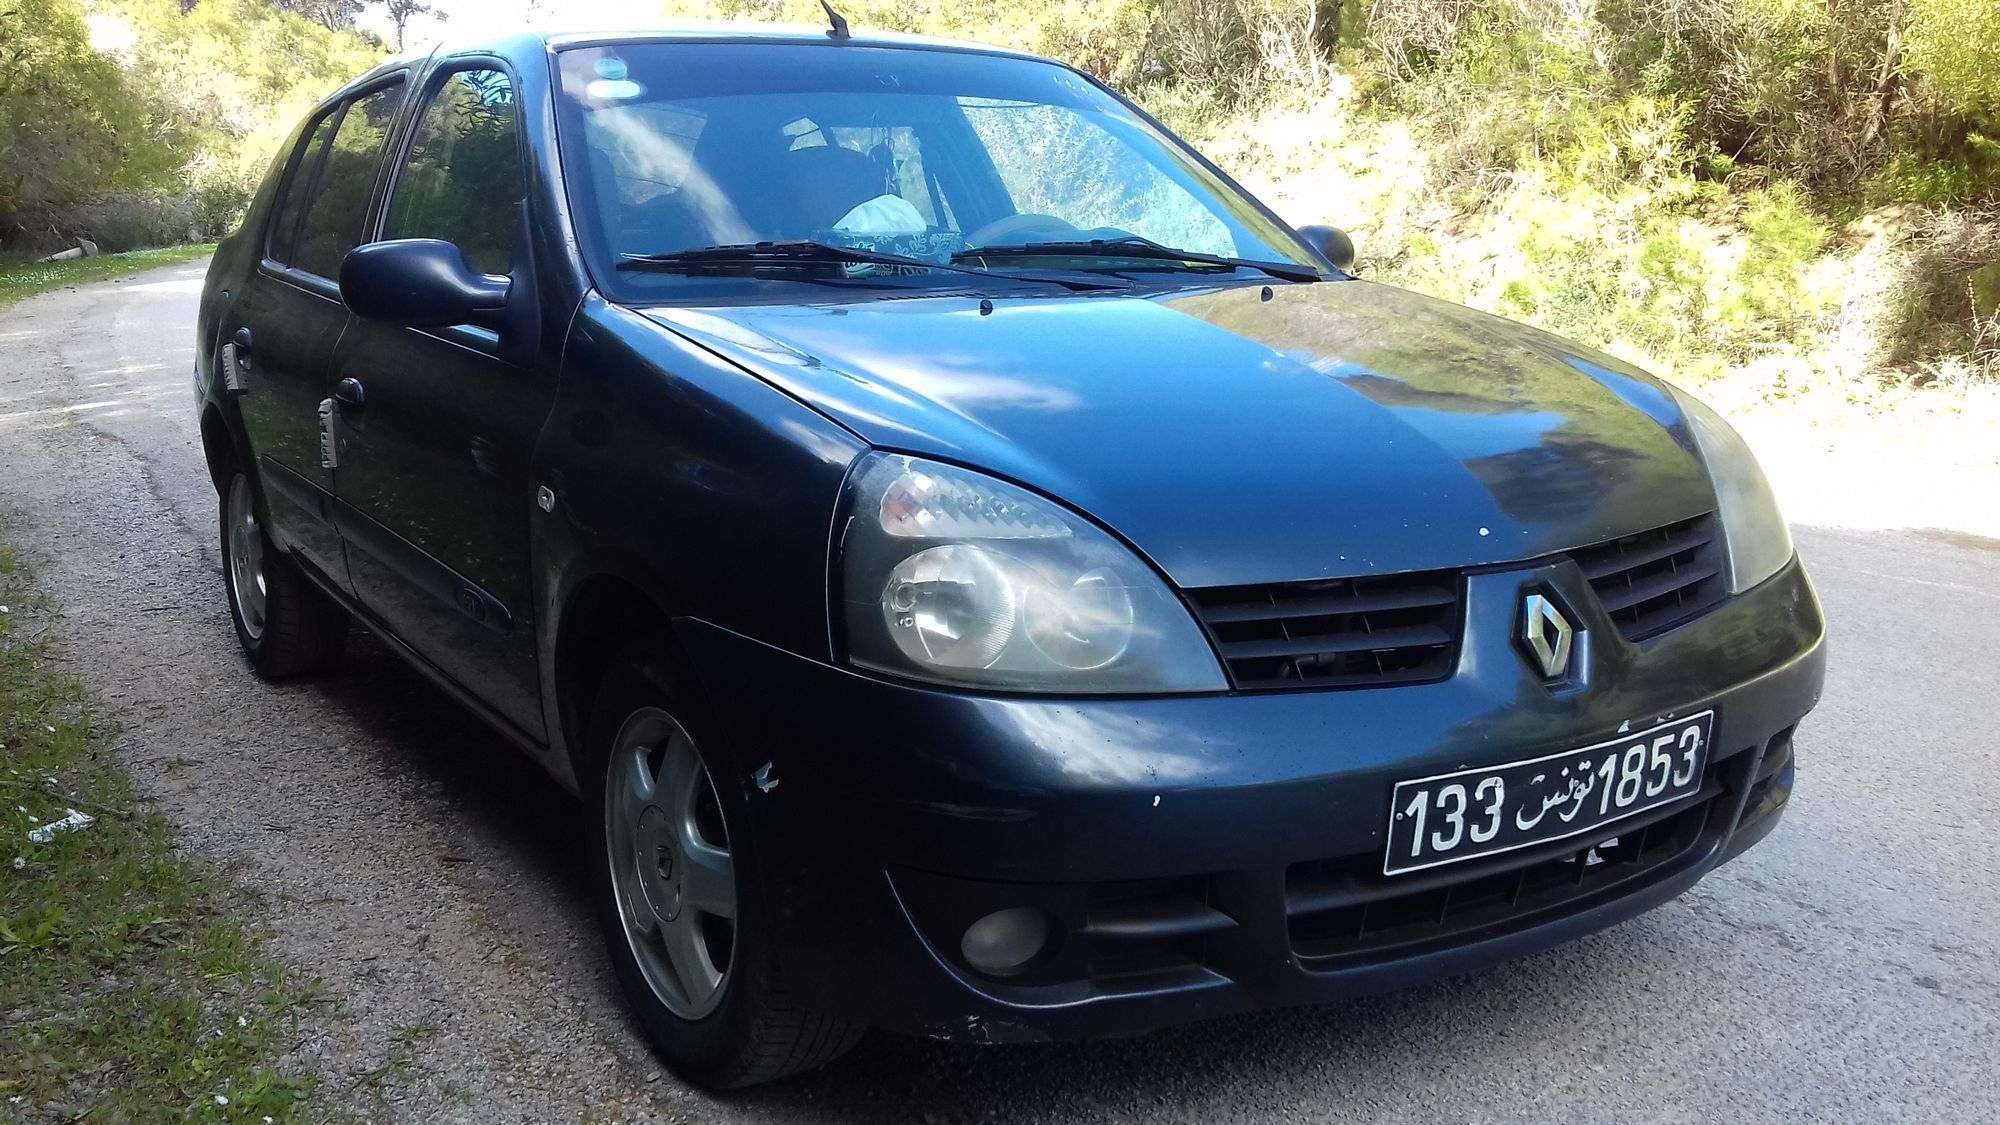LP: (1379, 706, 1718, 878)
